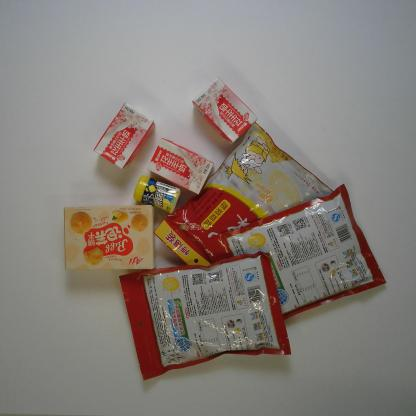Dessert: (62, 204, 158, 274)
Gum: (129, 174, 183, 218)
Instant Drink: (153, 123, 337, 271), (210, 182, 387, 324), (117, 250, 292, 384)
Milk: (187, 74, 260, 149), (92, 100, 156, 174), (146, 134, 216, 197)
